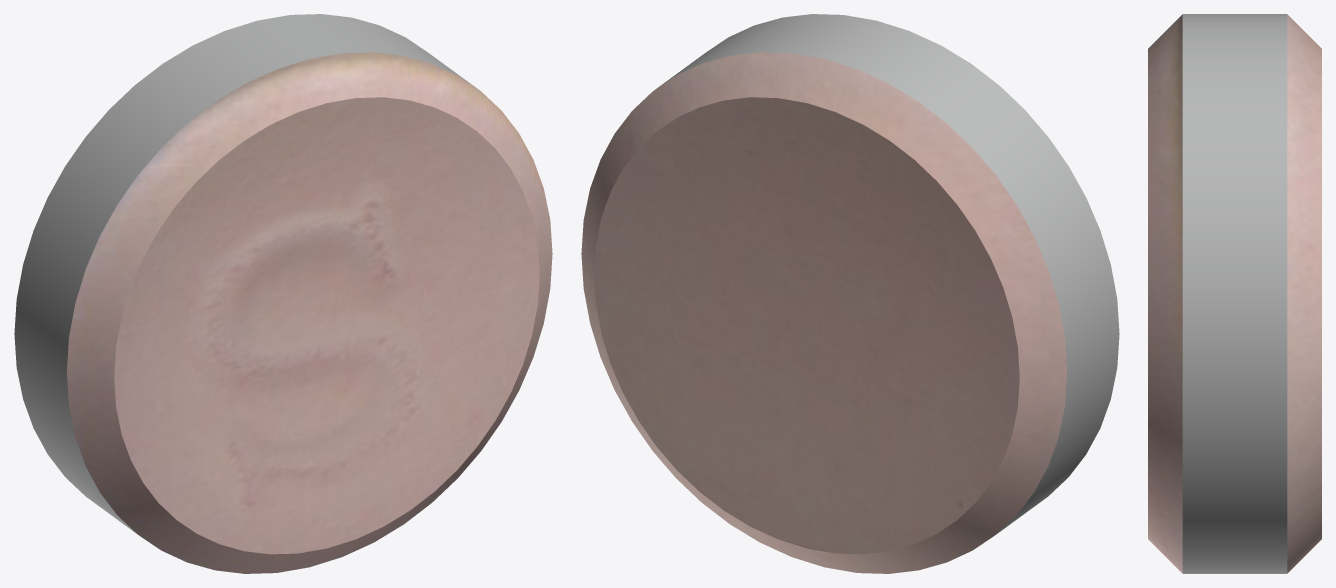
The model's file is 20160204GOPHDRGPT38991.fbx.
3 renders of one model, left to right at view 1: azimuth 30°, elevation 25°; view 2: azimuth 150°, elevation 25°; view 3: azimuth 270°, elevation 25°, orthographic.
Parts seen in each view (by area): view 1: BezierCircle; view 2: BezierCircle; view 3: BezierCircle.
Part boxes in pixels (box(x1,y1,x2,y2)): BezierCircle: box(14, 14, 552, 573); BezierCircle: box(581, 14, 1119, 573); BezierCircle: box(1148, 14, 1321, 573).
Bounding box in the file's own units: 0.4891 × 0.4891 × 0.1517.
